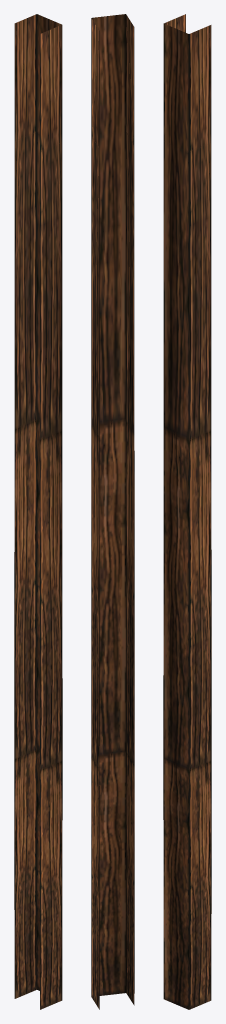
The model's file is LAKETOWN_WAREHOUSE2_PS_WH2_OBJECT173.fbx.
3 views of the same model, side by side, from view 1: azimuth 90°, elevation 25°; view 2: azimuth 150°, elevation 25°; view 3: azimuth 270°, elevation 25° (orthographic).
Parts seen in each view (by area): view 1: LAKETOWN_WAREHOUSE2_PS_WH2_OBJECT173; view 2: LAKETOWN_WAREHOUSE2_PS_WH2_OBJECT173; view 3: LAKETOWN_WAREHOUSE2_PS_WH2_OBJECT173.
Part boxes in pixels (<box>): LAKETOWN_WAREHOUSE2_PS_WH2_OBJECT173: <box>14,14,62,1009</box>; LAKETOWN_WAREHOUSE2_PS_WH2_OBJECT173: <box>91,14,134,1009</box>; LAKETOWN_WAREHOUSE2_PS_WH2_OBJECT173: <box>163,14,211,1009</box>.
Size of the model in its own units: 5014 by 112200 by 5011.
1 material, 1 textured.
